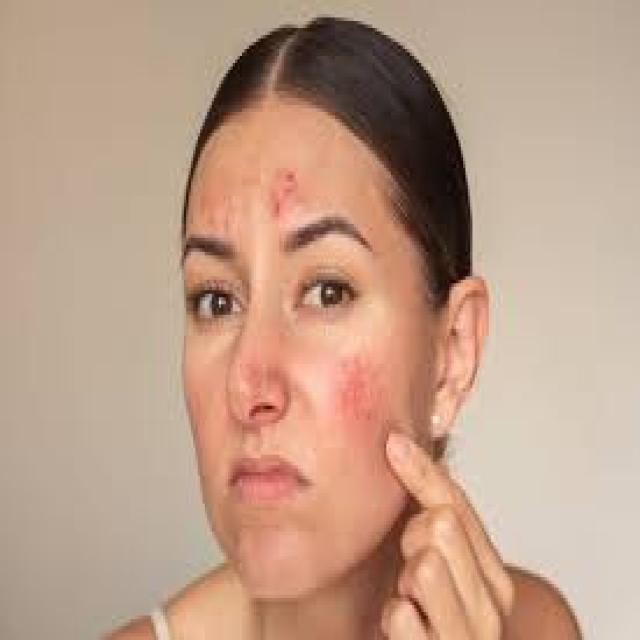Eczema: (344, 355, 406, 440), (268, 162, 312, 220)
